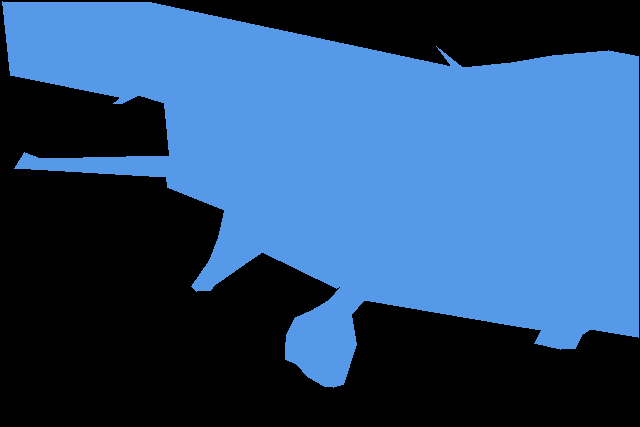Airplane: (2, 1, 638, 388)
